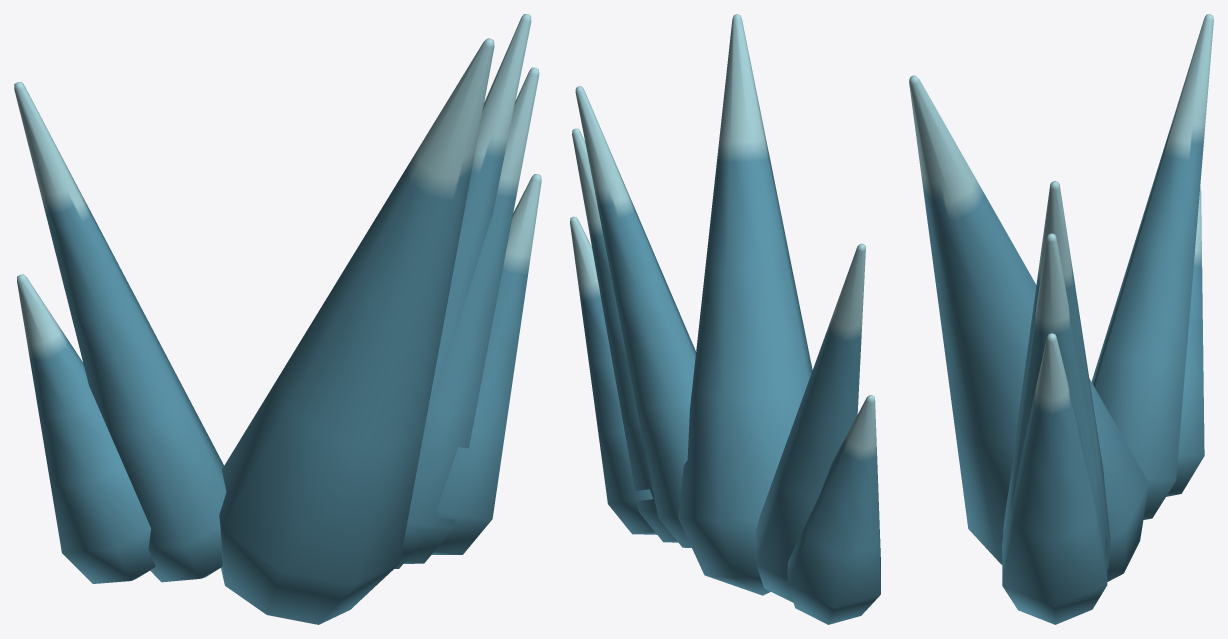
File: prop_crystal5_d3b4.glb
3 renders of one model, left to right at view 1: azimuth 30°, elevation 25°; view 2: azimuth 150°, elevation 25°; view 3: azimuth 270°, elevation 25°, orthographic. The views are drawn at different scales.
Visible parts, largest first — view 1: prop_crystal5_d3b4; view 2: prop_crystal5_d3b4; view 3: prop_crystal5_d3b4.
Boxes of the visible parts, x1,y1,x2,y2 form: prop_crystal5_d3b4: (14, 14, 541, 624); prop_crystal5_d3b4: (570, 14, 880, 624); prop_crystal5_d3b4: (909, 14, 1213, 624).
Bounding box in the file's own units: 0.7608 × 0.9845 × 0.488.
1 material, 1 textured.
